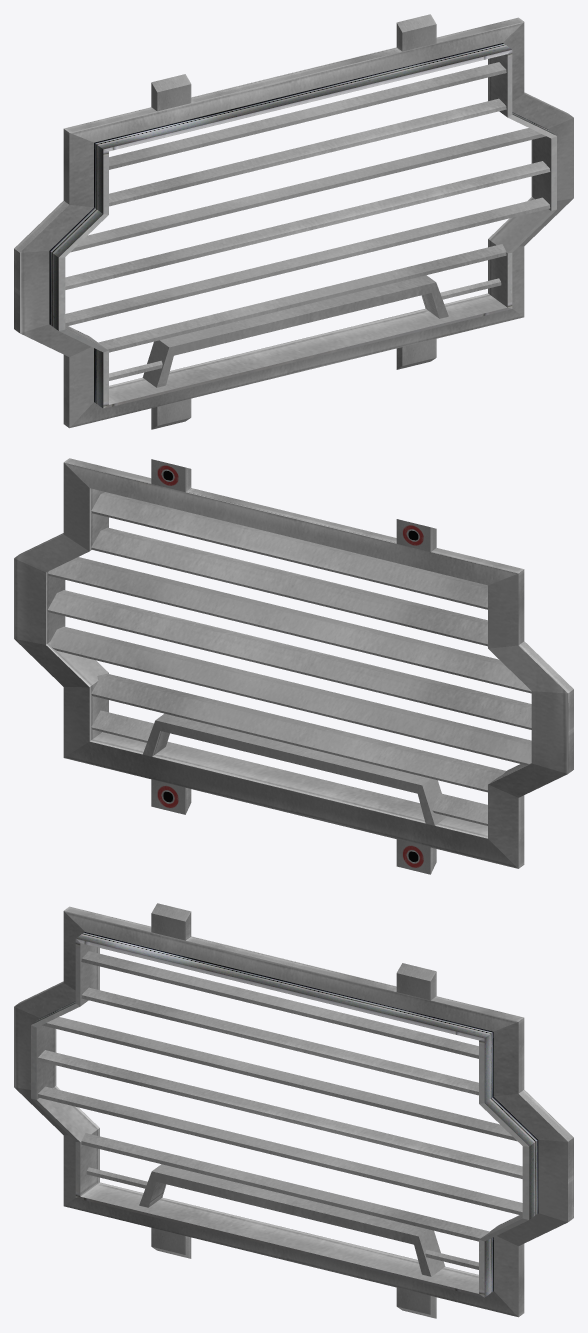
Rendered from Shaft_gate.fbx.
3 renders of one model, top to bottom at view 1: azimuth 30°, elevation 25°; view 2: azimuth 150°, elevation 25°; view 3: azimuth 330°, elevation 25°, orthographic.
Visible parts, largest first — view 1: Shaft_gate; view 2: Shaft_gate; view 3: Shaft_gate.
Part boxes in pixels (x1,y1,x2,y2): Shaft_gate: (14, 14, 573, 429); Shaft_gate: (14, 458, 573, 874); Shaft_gate: (14, 903, 573, 1318).
Bounding box in the file's own units: 93 × 55.73 × 5.67.
